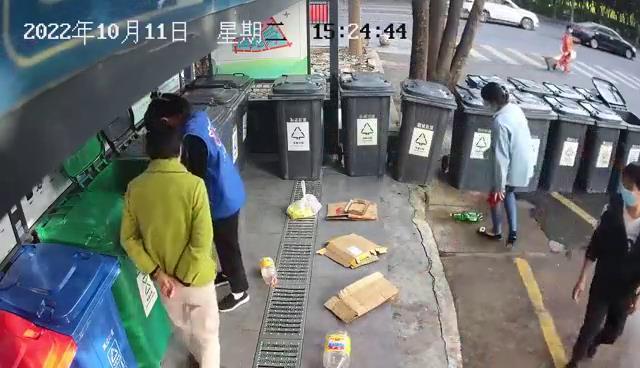garbage-bag: (284, 178, 322, 220)
person: (118, 125, 221, 368), (562, 160, 640, 368)
suliaozhipin: (321, 328, 353, 367), (258, 255, 279, 288), (449, 209, 486, 224)
worker: (143, 86, 251, 313), (475, 82, 534, 249)
zhizhipin: (322, 271, 399, 324), (313, 231, 389, 270), (323, 198, 380, 222)
